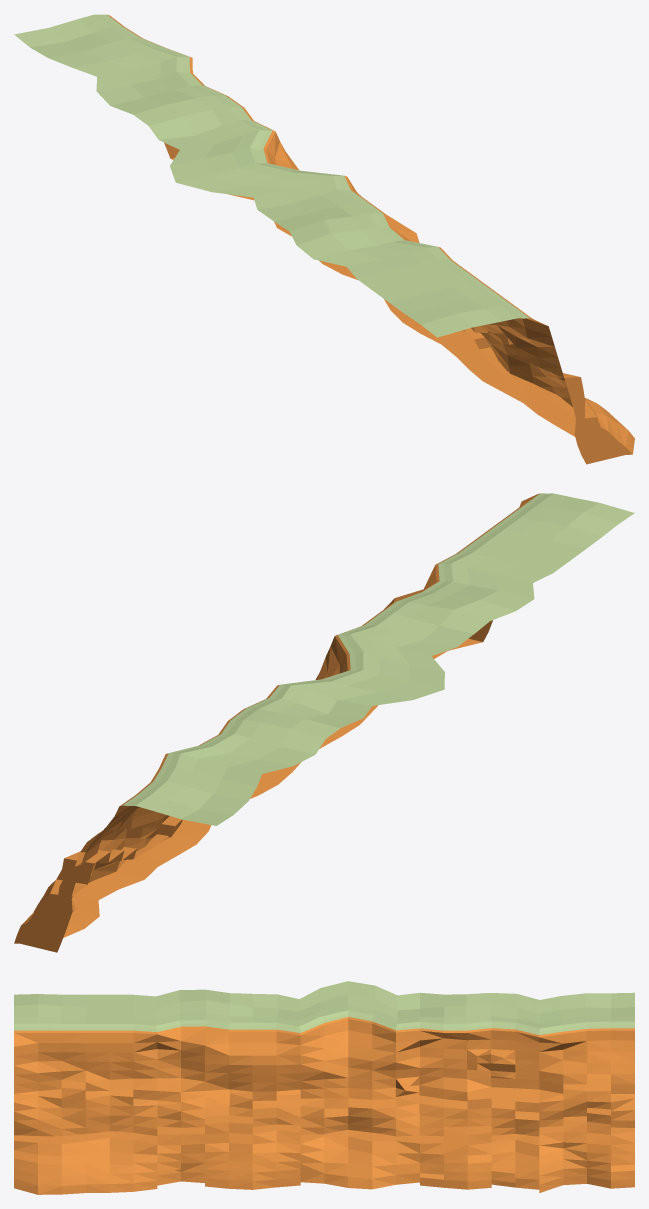
Rendered from CliffBig_3.fbx.
3 views of the same model, one above another, from view 1: azimuth 30°, elevation 25°; view 2: azimuth 150°, elevation 25°; view 3: azimuth 270°, elevation 25° (orthographic). The views are drawn at different scales.
Visible parts, largest first — view 1: pPlane3; view 2: pPlane3; view 3: pPlane3.
Part boxes in pixels (<box>): pPlane3: <box>14,14,634,464</box>; pPlane3: <box>14,493,634,952</box>; pPlane3: <box>14,981,634,1194</box>.
Size of the model in its own units: 7105 by 4557 by 20448.
